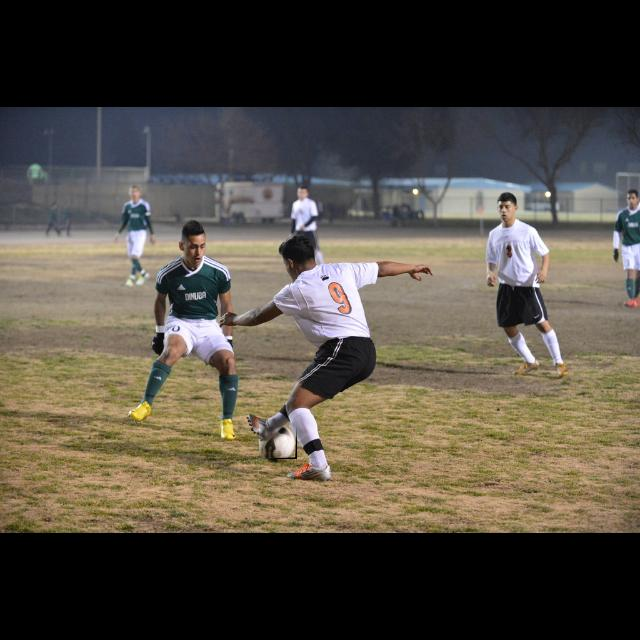Football: (259, 427, 297, 459)
